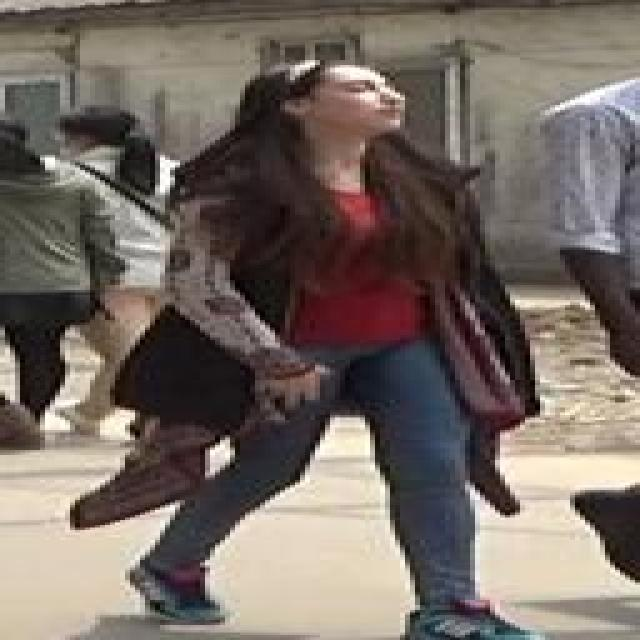adult: (144, 56, 525, 636), (42, 116, 228, 444), (540, 72, 640, 560), (0, 128, 85, 440)
